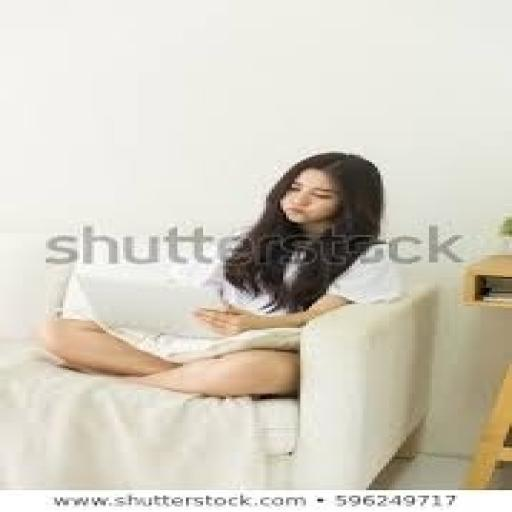using_laptop: (72, 258, 243, 340)
